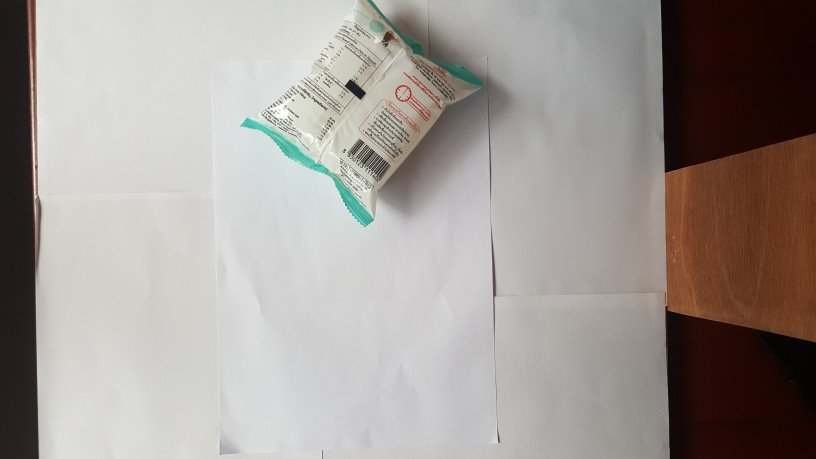farmhouse-sweetsandwich-chocolate: (237, 1, 488, 230)
